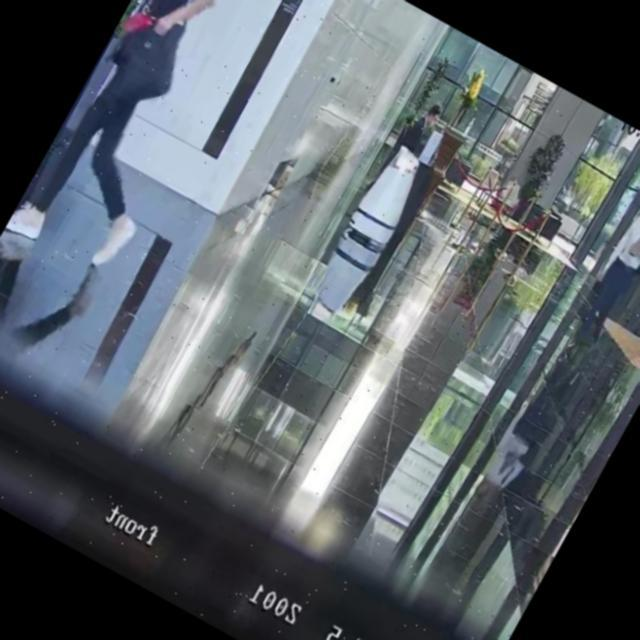person: (5, 0, 296, 284), (568, 181, 640, 351), (401, 98, 446, 156)
